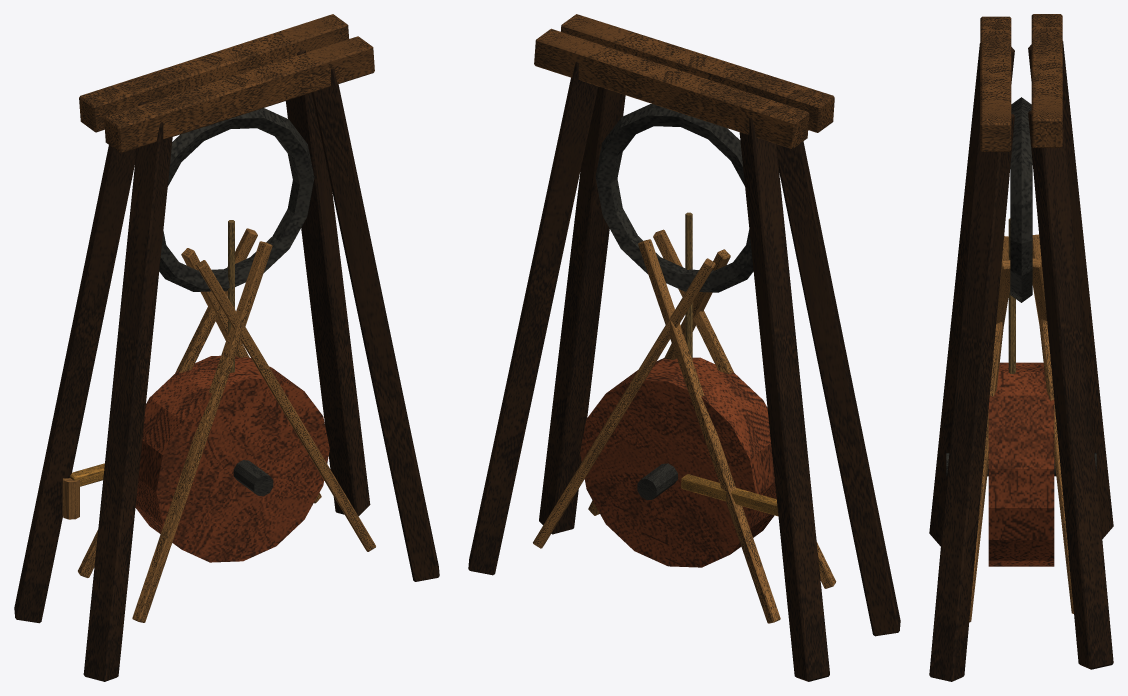
File: south_bank_winch.glb
3 views of the same model, side by side, from view 1: azimuth 30°, elevation 25°; view 2: azimuth 150°, elevation 25°; view 3: azimuth 270°, elevation 25° (orthographic).
Visible parts, largest first — view 1: south_bank_winch; view 2: south_bank_winch; view 3: south_bank_winch.
Part boxes in pixels (x1,y1,x2,y2): south_bank_winch: [14, 14, 439, 681]; south_bank_winch: [468, 14, 900, 681]; south_bank_winch: [929, 14, 1113, 681].
Size of the model in its own units: 4.58 by 6.83 by 2.02.
1 material, 1 textured.
